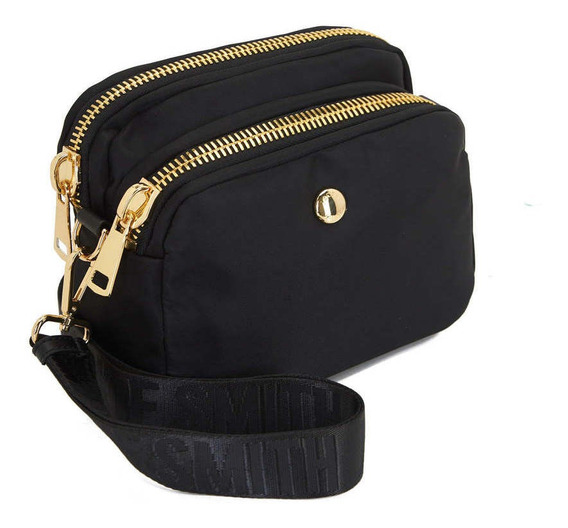cartera: (39, 24, 478, 498)
